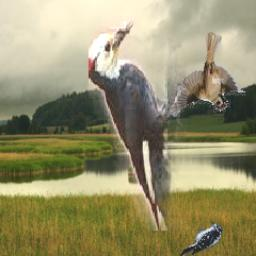Sparrow: (170, 32, 246, 118)
Woodpecker: (89, 16, 187, 231), (179, 222, 223, 256)
